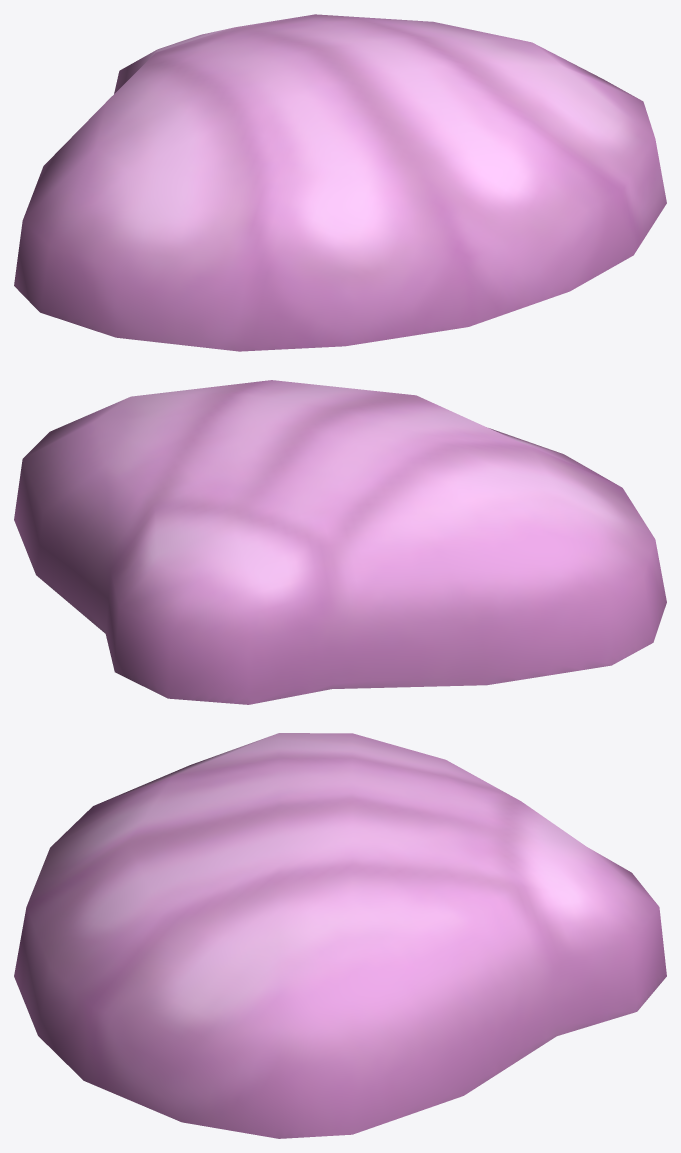
The model's file is Beach_shell_01.fbx.
3 renders of one model, top to bottom at view 1: azimuth 30°, elevation 25°; view 2: azimuth 150°, elevation 25°; view 3: azimuth 270°, elevation 25°, orthographic. The views are drawn at different scales.
Visible parts, largest first — view 1: Beach_shell_01; view 2: Beach_shell_01; view 3: Beach_shell_01.
Boxes of the visible parts, box(x1,y1,x2,y2) form: Beach_shell_01: box(14, 14, 666, 351); Beach_shell_01: box(14, 380, 666, 704); Beach_shell_01: box(14, 733, 666, 1138).
Bounding box in the file's own units: 50.12 × 12.73 × 42.54.
